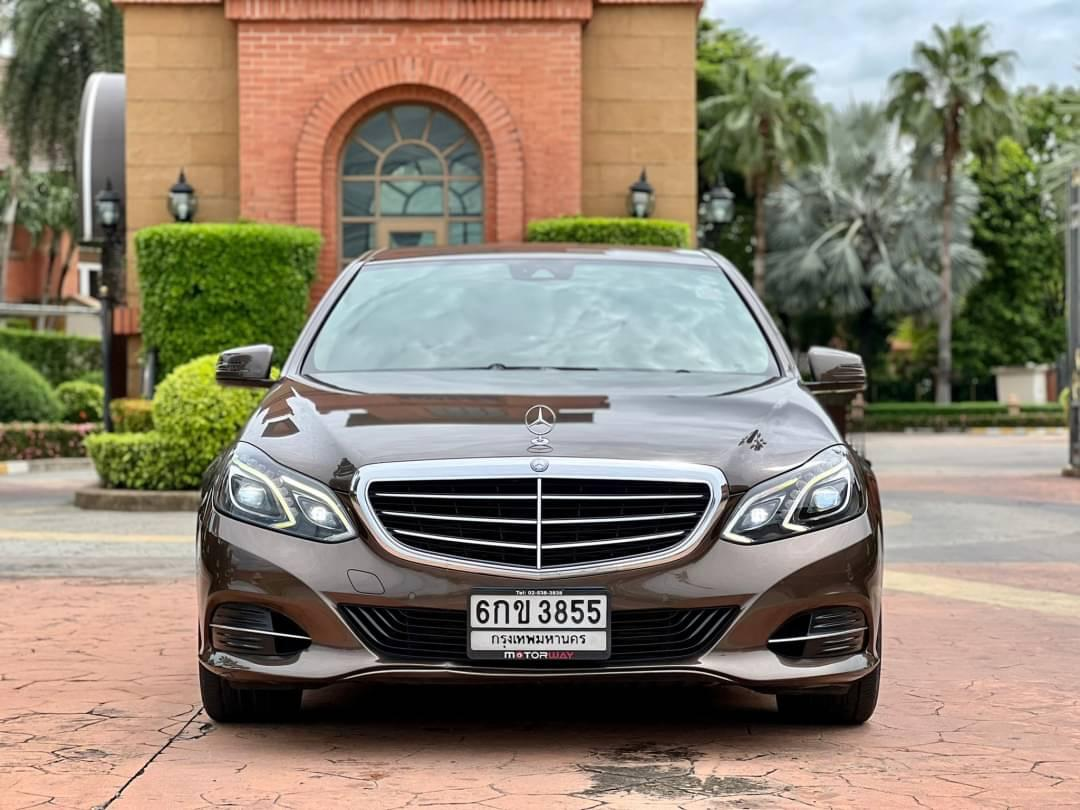license-plate: (464, 579, 614, 666)
